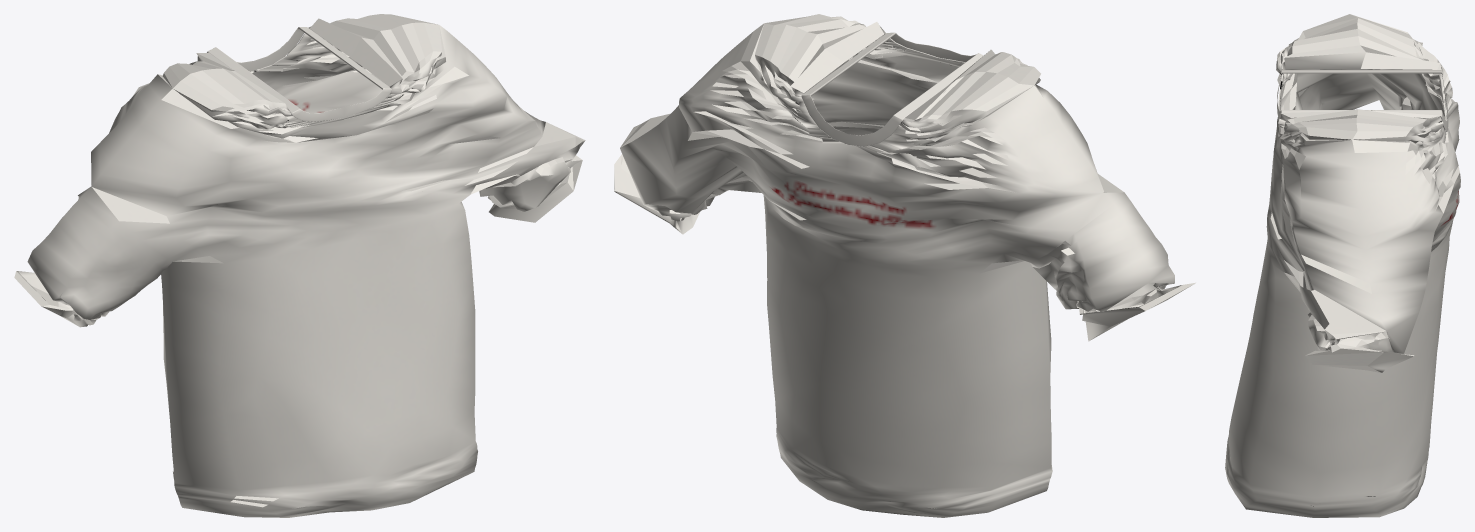
The model's file is art_school_tshirt_white.glb.
The picture shows the model from 3 angles, left to right: view 1: azimuth 30°, elevation 25°; view 2: azimuth 150°, elevation 25°; view 3: azimuth 270°, elevation 25°; orthographic projection. The views are drawn at different scales.
Visible parts, largest first — view 1: ARTSCHOOL_TSHIRT_WHITE; view 2: ARTSCHOOL_TSHIRT_WHITE; view 3: ARTSCHOOL_TSHIRT_WHITE.
Boxes of the visible parts, x1,y1,x2,y2 form: ARTSCHOOL_TSHIRT_WHITE: [14, 14, 585, 517]; ARTSCHOOL_TSHIRT_WHITE: [614, 14, 1195, 517]; ARTSCHOOL_TSHIRT_WHITE: [1225, 14, 1460, 517].
Bounding box in the file's own units: 1.23 × 0.9253 × 0.4812.
1 material, 1 textured.
